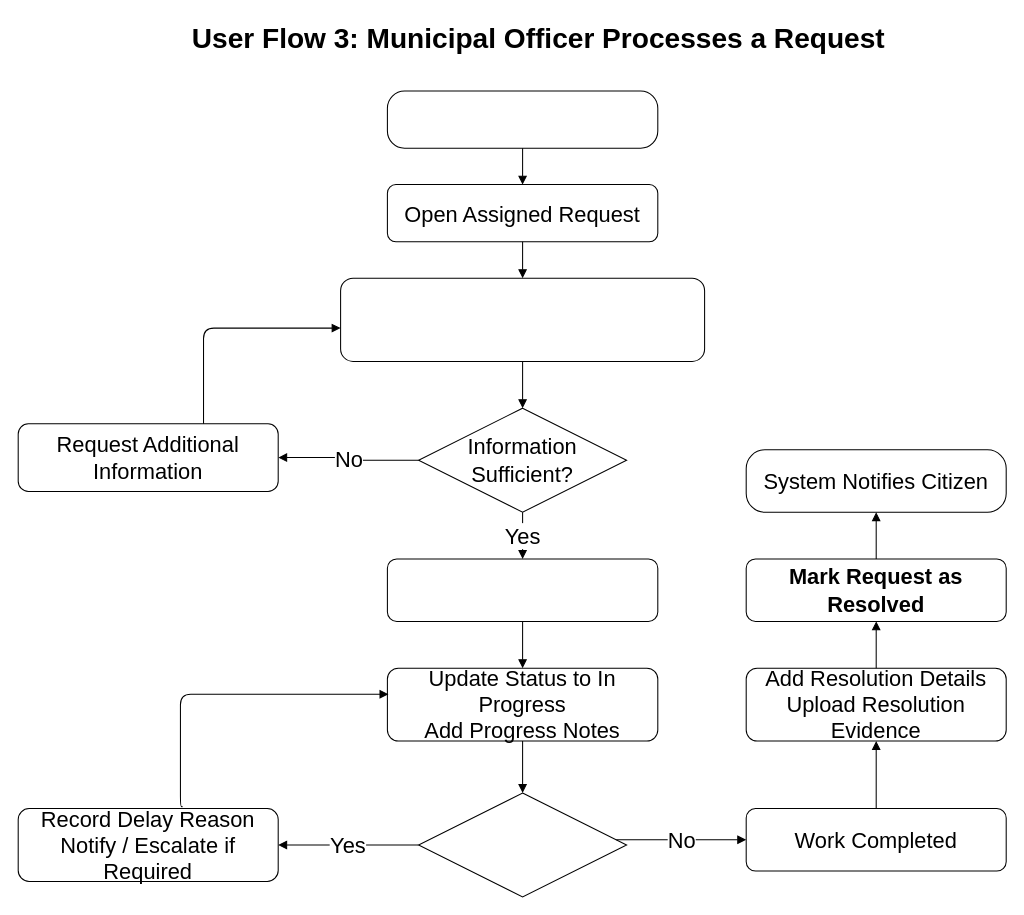
This 1024x915 diagram has some shape labels left out. Here are the shapes that lost their labels. From the top down, the centre of each, then its label:
At (522,119): "Officer Dashboard".
At (522,319): "Review Request Details Category • Description • Location • Evidence".
At (522,589): "Assign Officer / Field Team".
At (522,844): "Work Delayed?".
